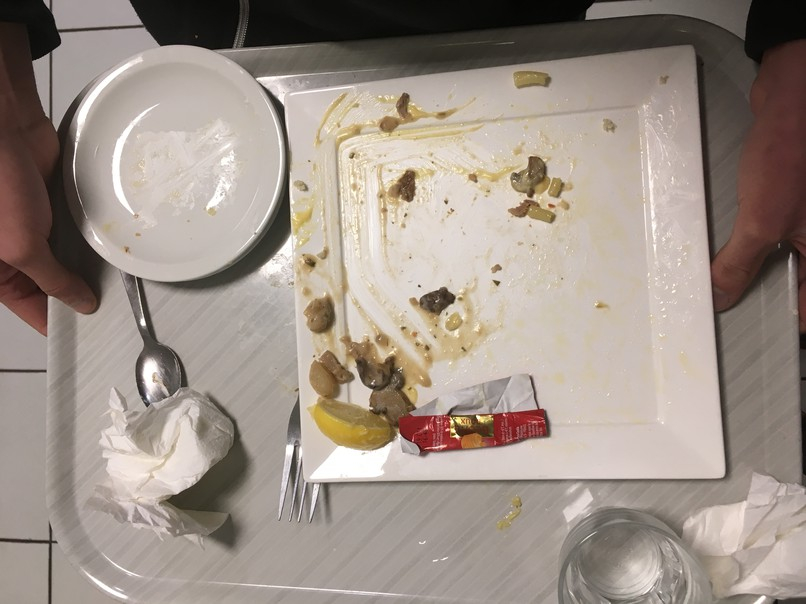orga: (309, 302, 408, 468)
trash: (101, 395, 229, 535), (712, 481, 806, 595), (414, 377, 543, 455)
